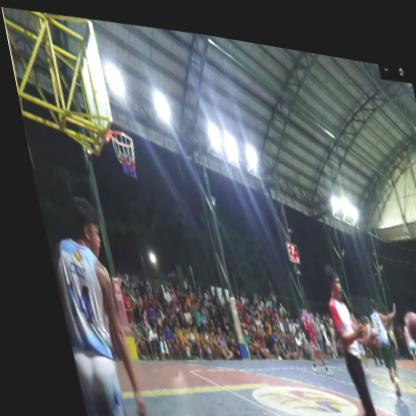basketball: (388, 289, 416, 340)
rim: (98, 108, 138, 185)
